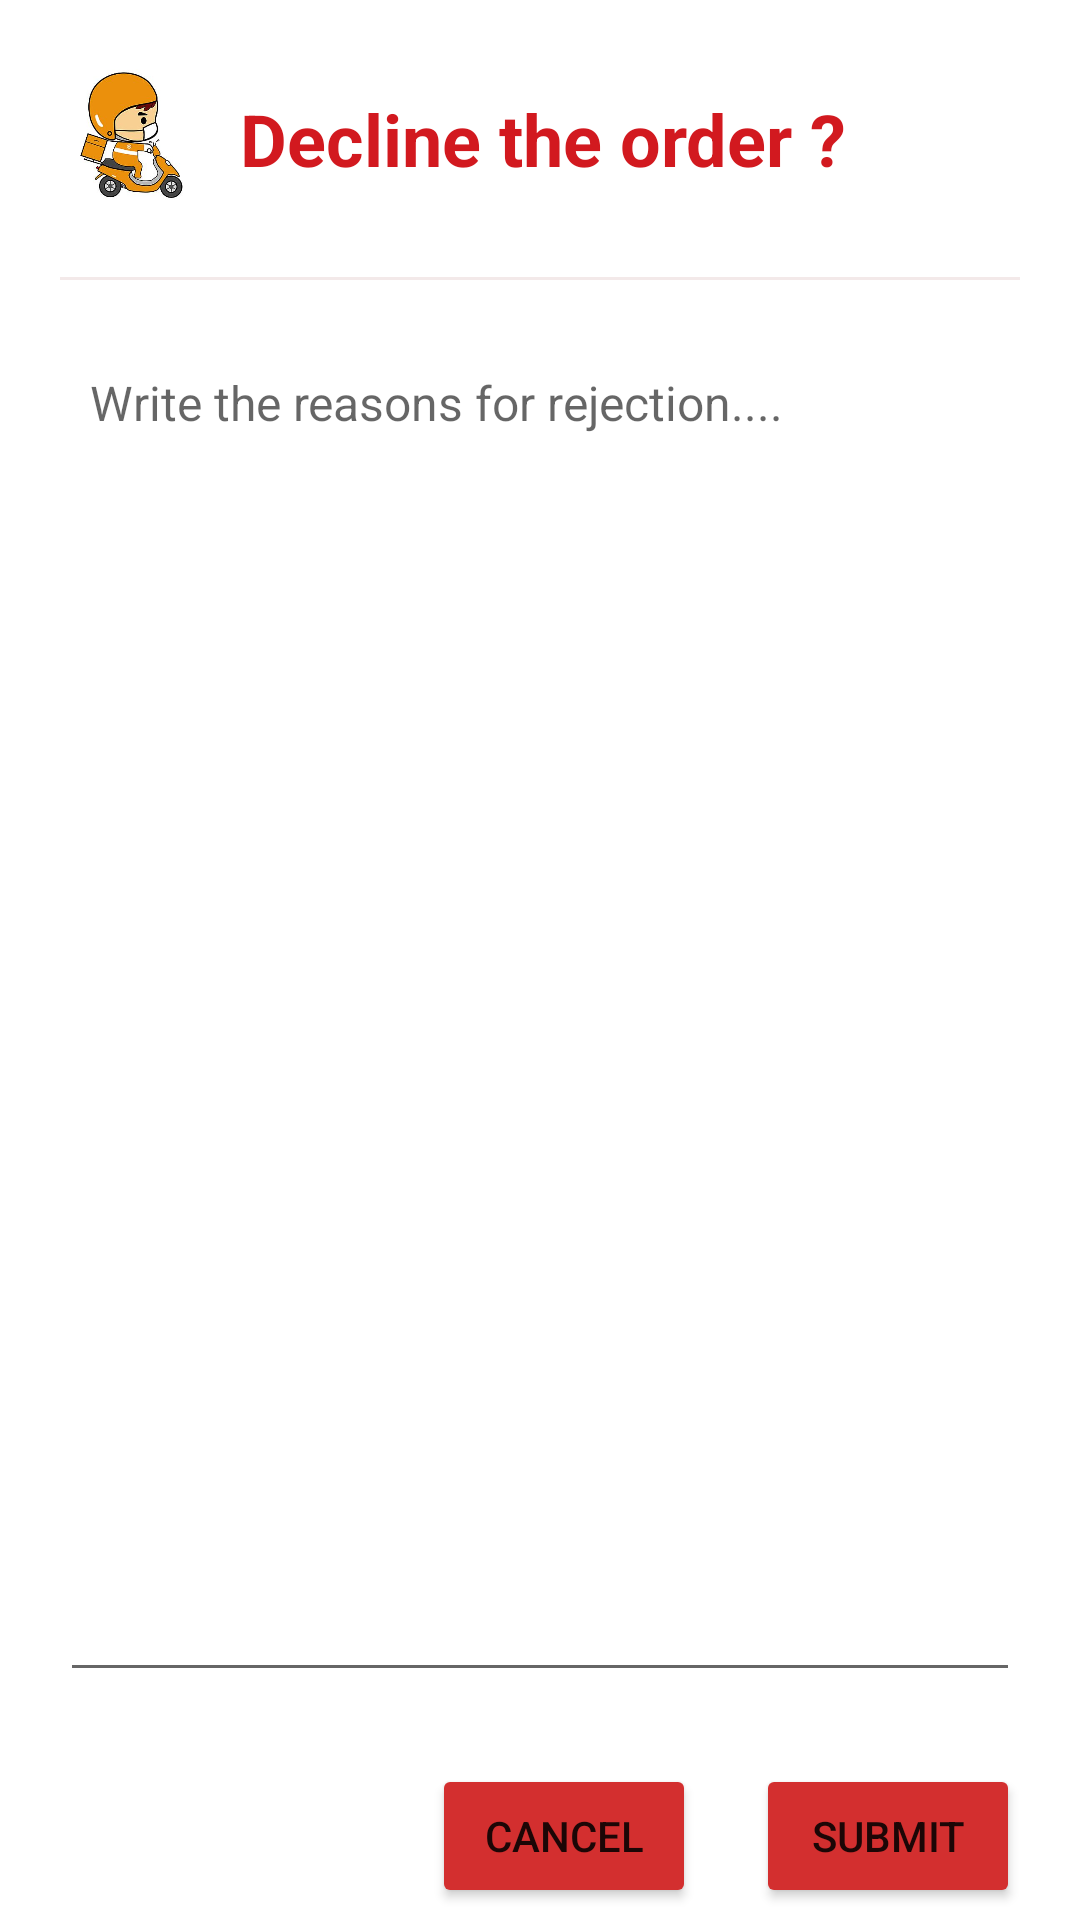

Icon bounding boxes for this 1080 × 1920 phone screenshot, format box(x1, y1, x2, y2):
delivery: box(80, 72, 183, 198)
